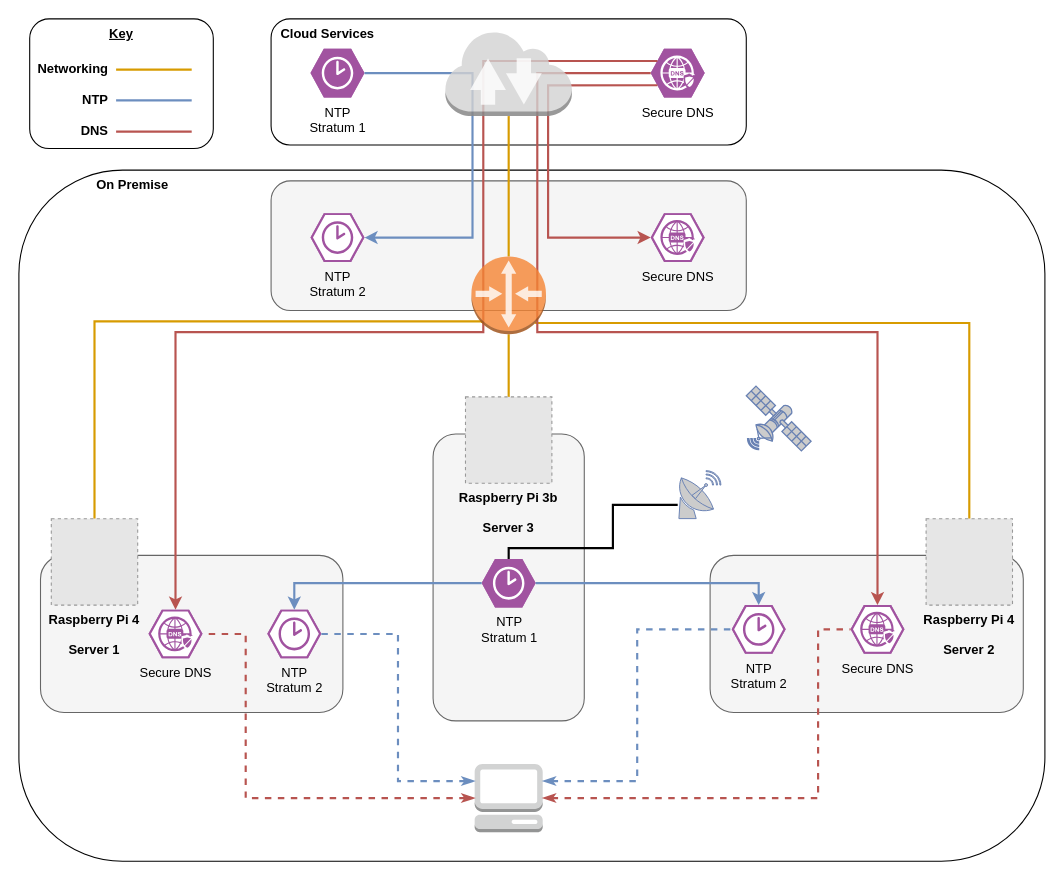
Some shapes in this 1064 by 880 pixel diagram are drawn without their labels. Grey dashed boxes stand in for pictures. Each missing label, with the centre of its shape:
Clients: point 508,797
GPS Antenna: point 698,494
Router: point 508,294
